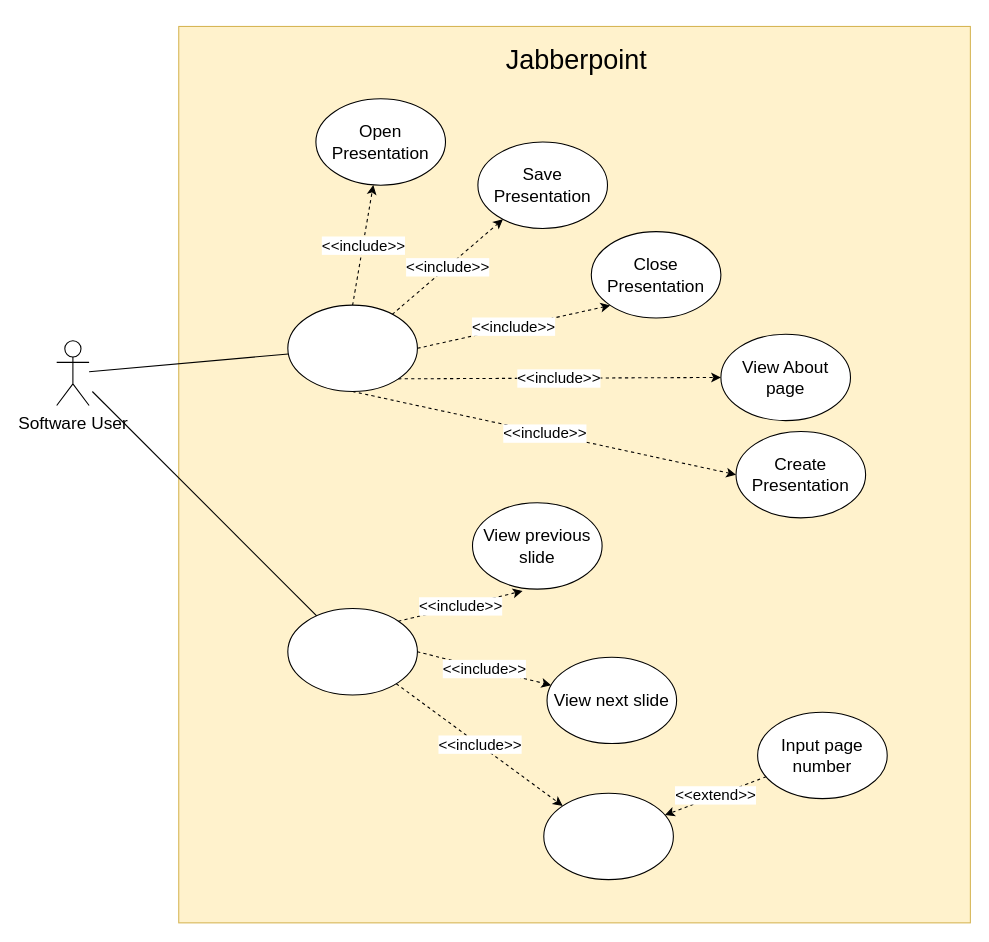
The diagram is 989 pixels wide and 942 high, and some of its shapes have lost their labels. Here are the shapes that lost their labels. From the top down, the centre of each, then its label:
At (x=352, y=348): "Navigate File Menu bar".
At (x=352, y=651): "Navigate Presentation".
At (x=608, y=836): "Go to specific page".
